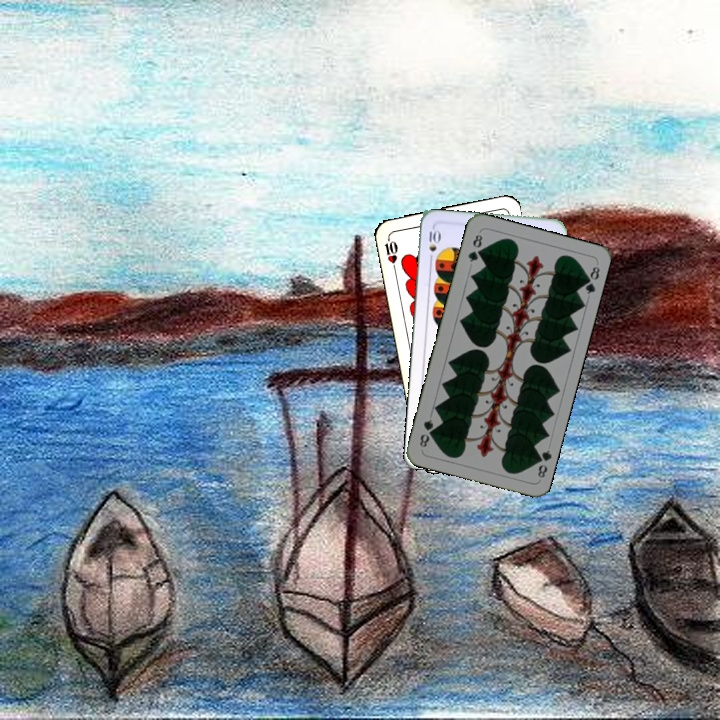G8: (531, 446, 554, 480), (464, 228, 485, 265)
H10: (380, 232, 400, 273)
S10: (425, 224, 442, 265)
